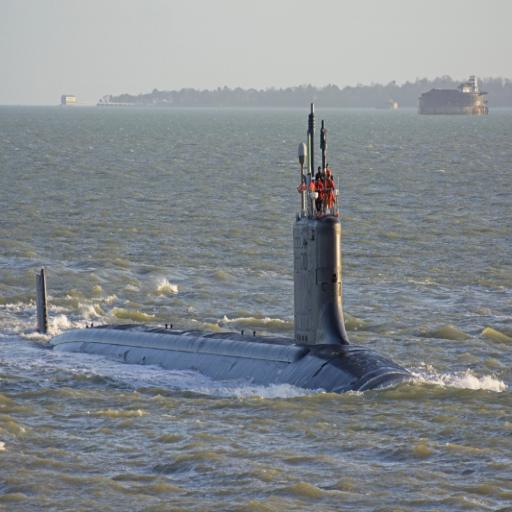submarine: (4, 179, 424, 394)
